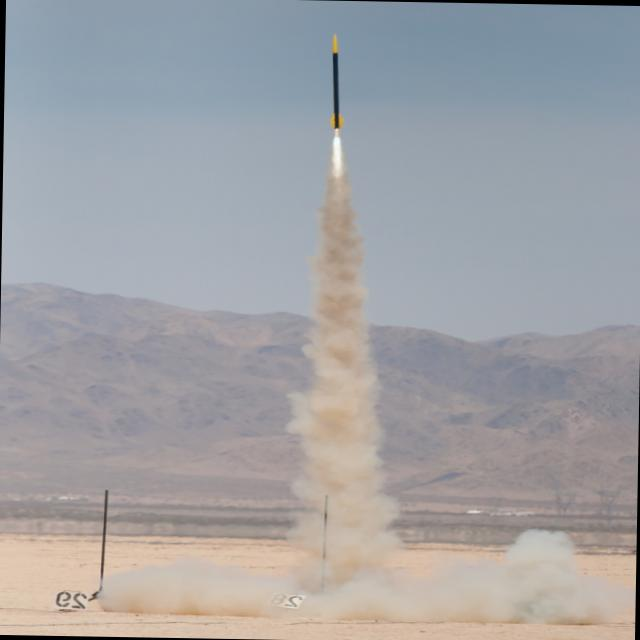rocket: (299, 26, 356, 220)
